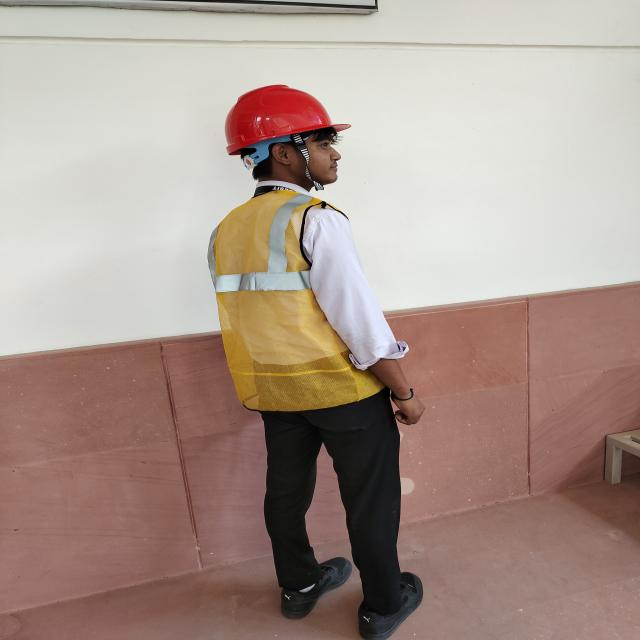safe: (209, 85, 413, 640)
